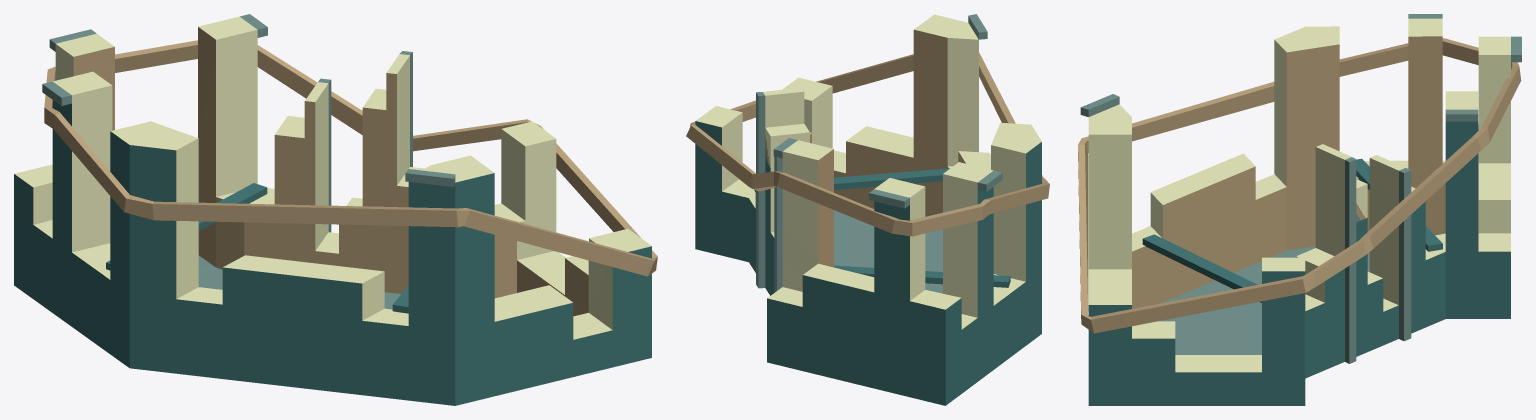
The model's file is ModuloEsquinaRoto02.fbx.
3 views of the same model, side by side, from view 1: azimuth 30°, elevation 25°; view 2: azimuth 150°, elevation 25°; view 3: azimuth 270°, elevation 25° (orthographic). The views are drawn at different scales.
Visible parts, largest first — view 1: Cube.130, Cube.134, Cube.131; view 2: Cube.130, Cube.134, Cube.133, Cube.131; view 3: Cube.130, Cube.134, Cube.133, Cube.131.
Boxes of the visible parts, x1,y1,x2,y2 form: Cube.130: [14, 14, 651, 405]; Cube.134: [44, 40, 657, 276]; Cube.131: [106, 183, 267, 270]; Cube.130: [695, 14, 1041, 405]; Cube.134: [686, 52, 1049, 236]; Cube.133: [754, 168, 949, 192]; Cube.131: [834, 265, 1010, 287]; Cube.130: [1080, 14, 1521, 405]; Cube.134: [1078, 38, 1521, 333]; Cube.133: [1142, 234, 1261, 302]; Cube.131: [1356, 158, 1442, 251].
Size of the model in its own units: 406 by 213 by 410.
